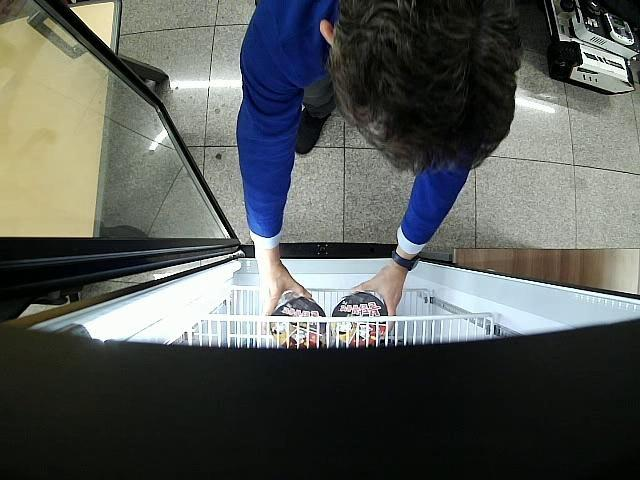07_buldak_L: (270, 292, 326, 348), (330, 292, 388, 346)
